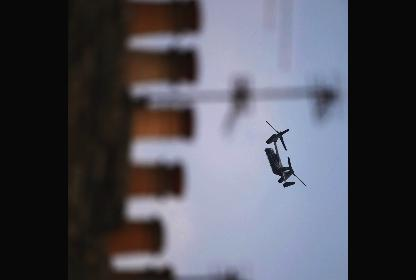Tornado: (265, 120, 307, 186)
